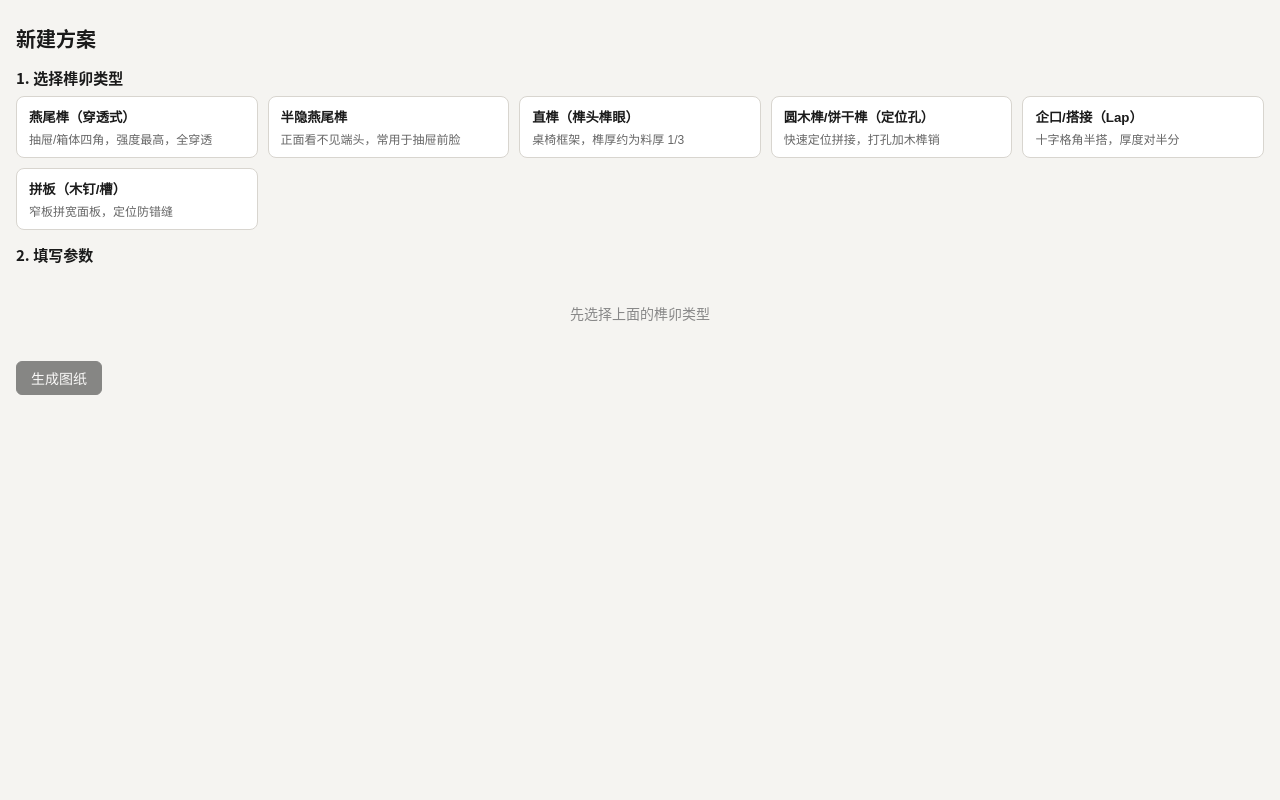
Test: 新建页：选类型 → 填参数 → 生成图纸 › 键盘方向键微调 0.5mm（蓝图 §9）
The image size is (1280, 800).
Step 1. Click the button with test id "kind-dovetail" → x=137, y=127, box [16, 96, 258, 158]
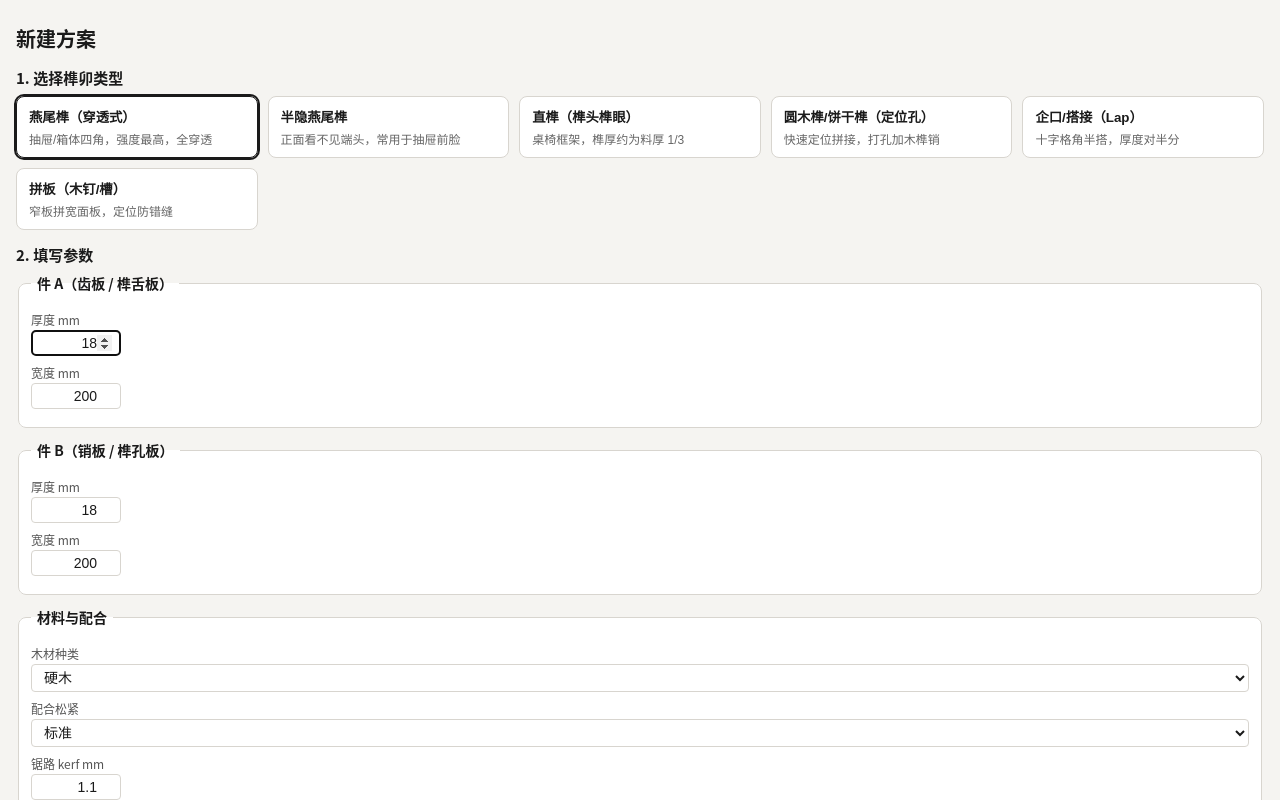
Step 2. Press ArrowUp in the number field with test id "a-thickness", box [31, 330, 121, 356]
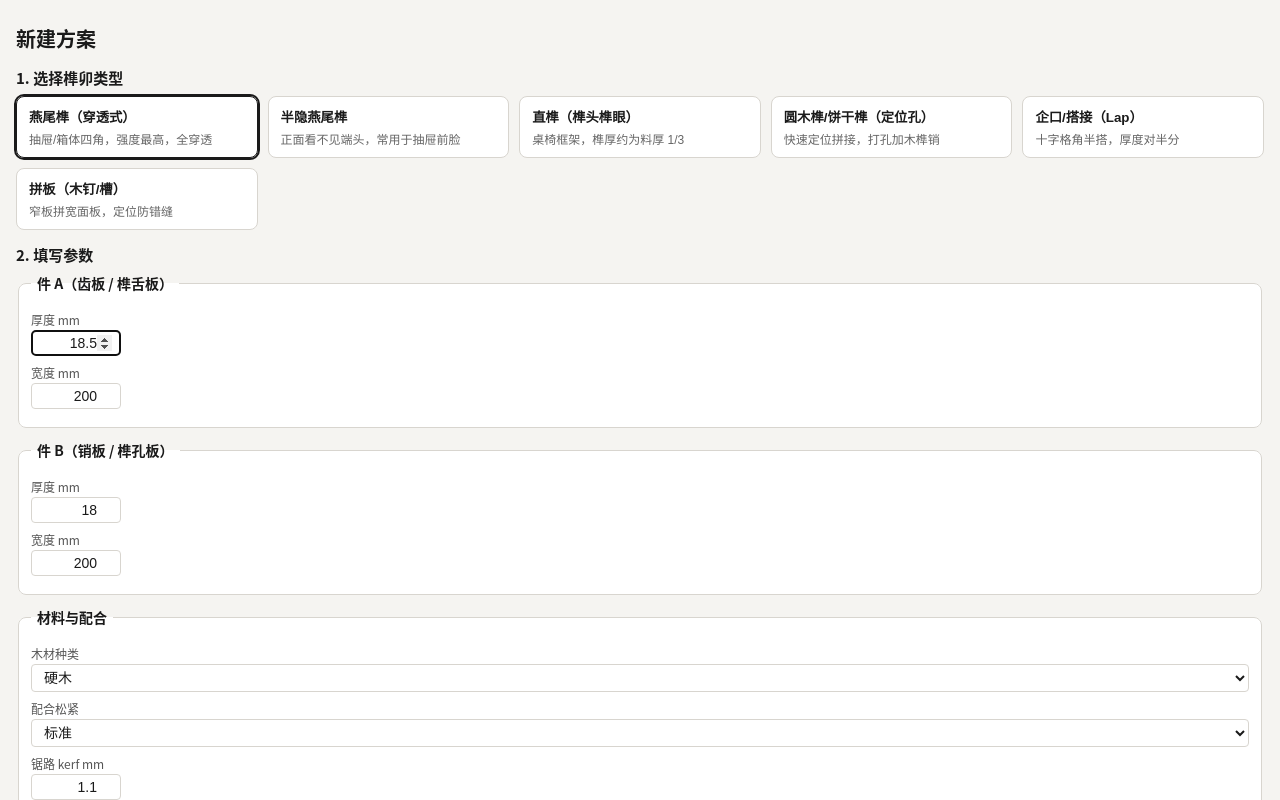
Expected: the number field with test id "a-thickness" holds "18.5"
Step 3. Press ArrowDown in the number field with test id "a-thickness", box [31, 330, 121, 356]
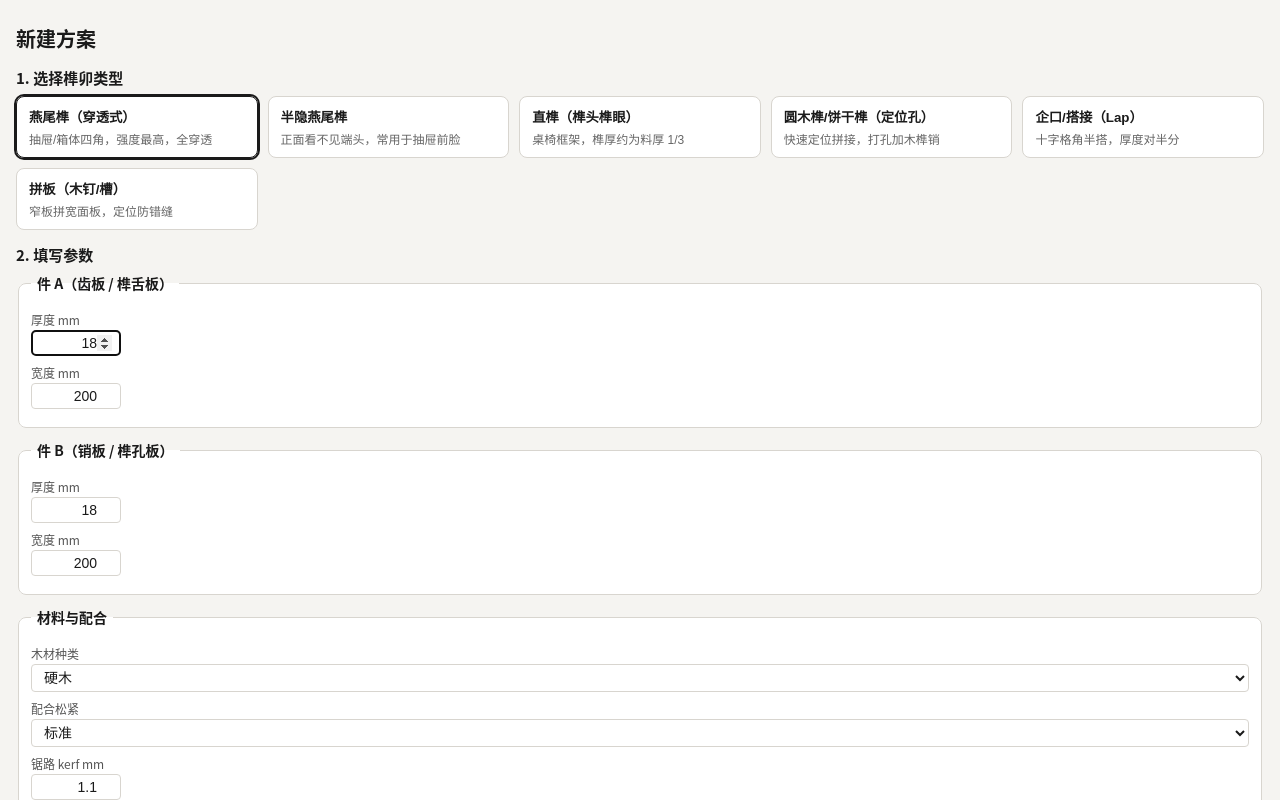
Expected: the number field with test id "a-thickness" holds "18", [31, 330, 121, 356]
